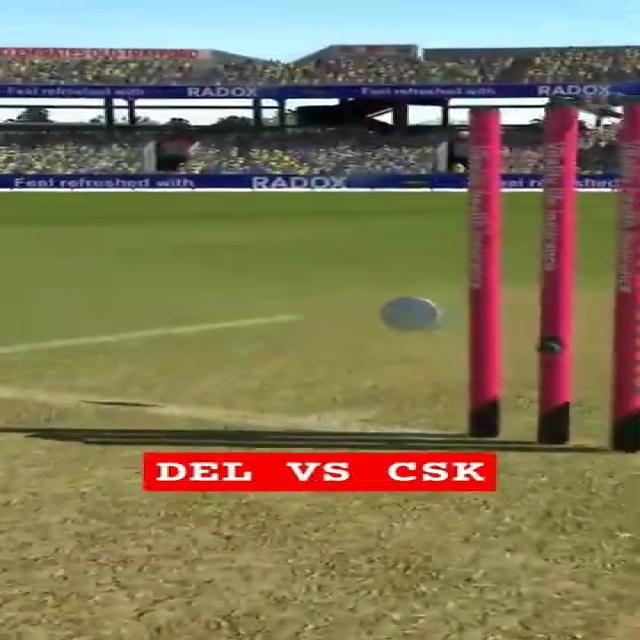ball: (379, 295, 441, 331)
